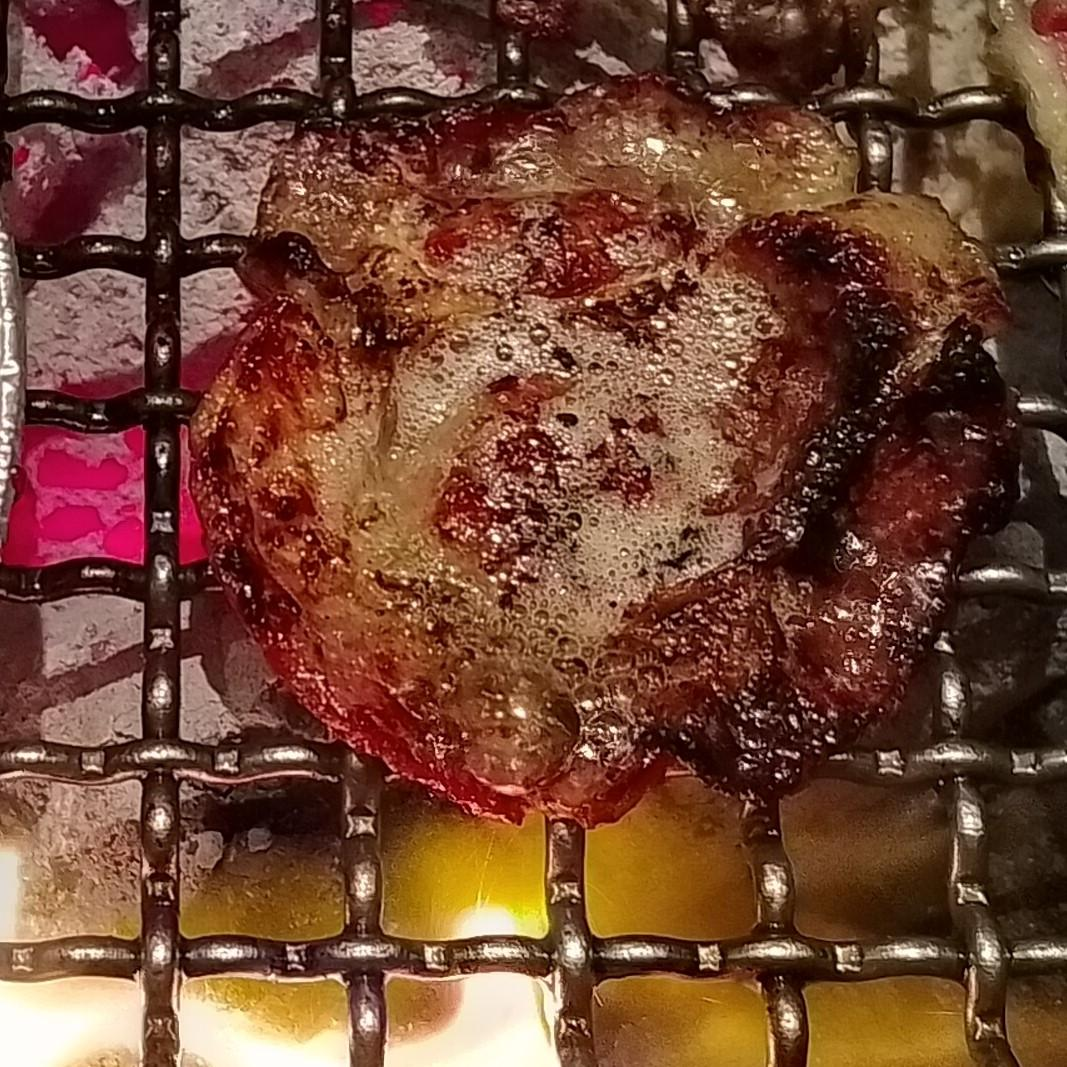Overcooked: (192, 77, 1019, 831)
